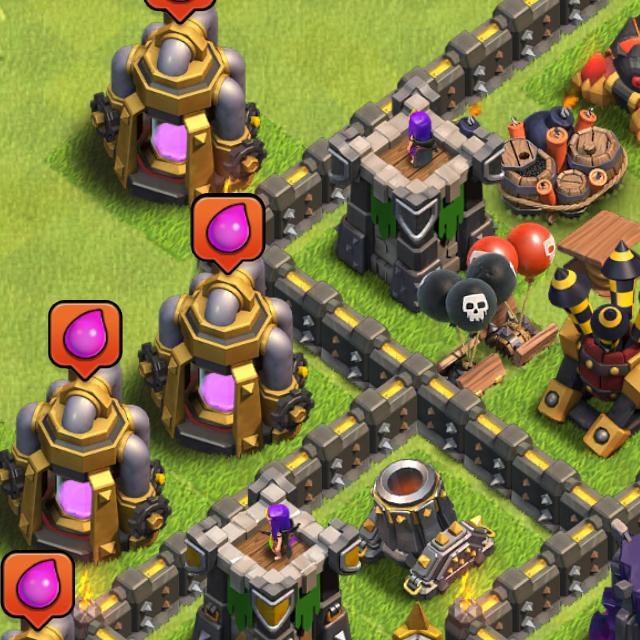FullElixir: (48, 300, 124, 386), (0, 549, 75, 634), (191, 192, 266, 276)
